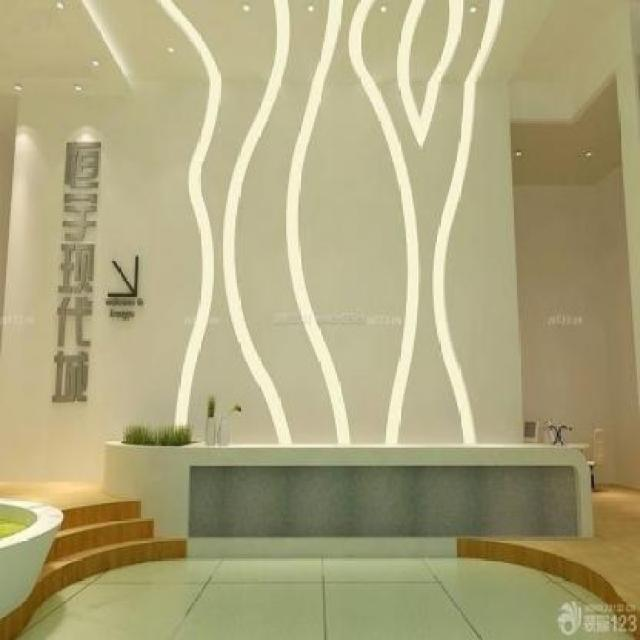frontdesk: (100, 428, 602, 574)
